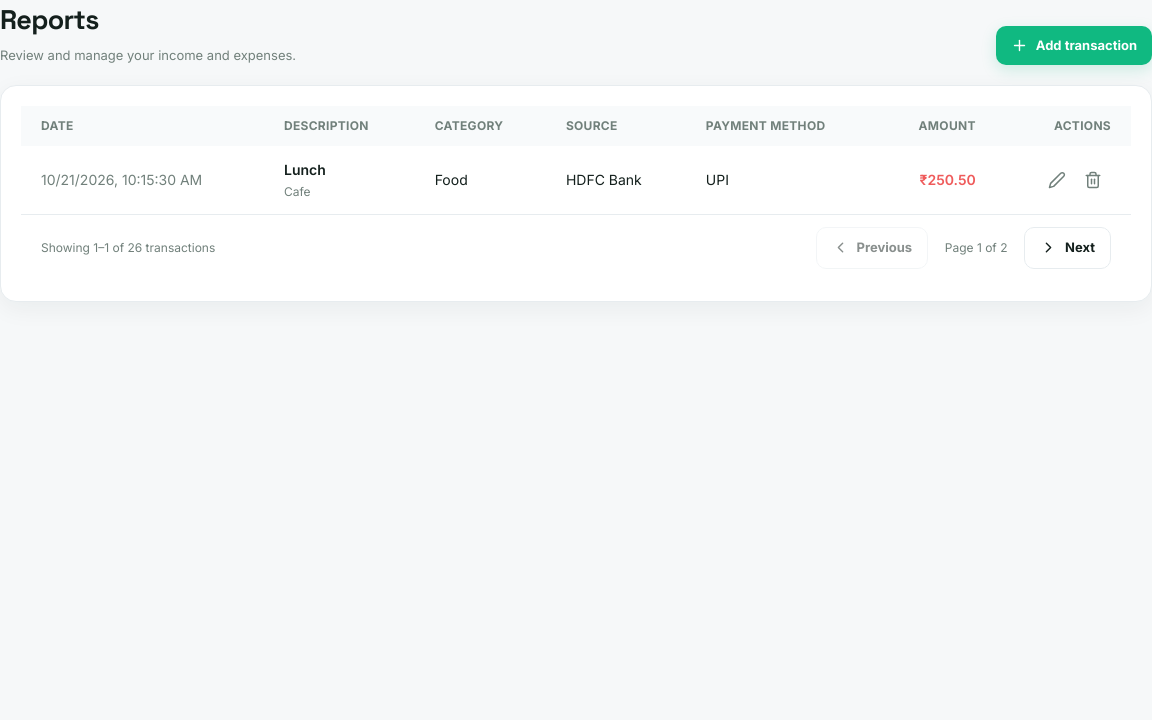
Test case: ReportsPage › edits a transaction and submits the updated fields
Expected: the text "Lunch" is shown, [284,161,326,178]
Click the button named "Edit Lunch": (1057, 180) [1039,162,1075,198]
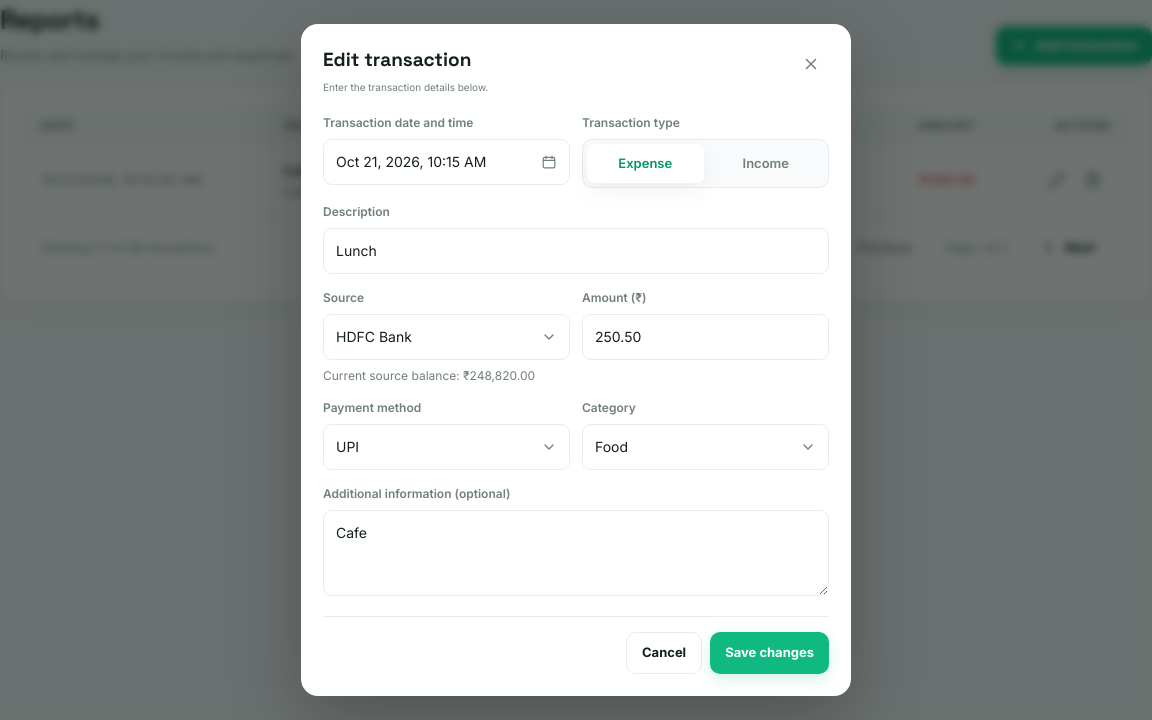
Replace the text in the field labelled "Description" with "Updated lunch": (576, 251) [323,228,829,274]
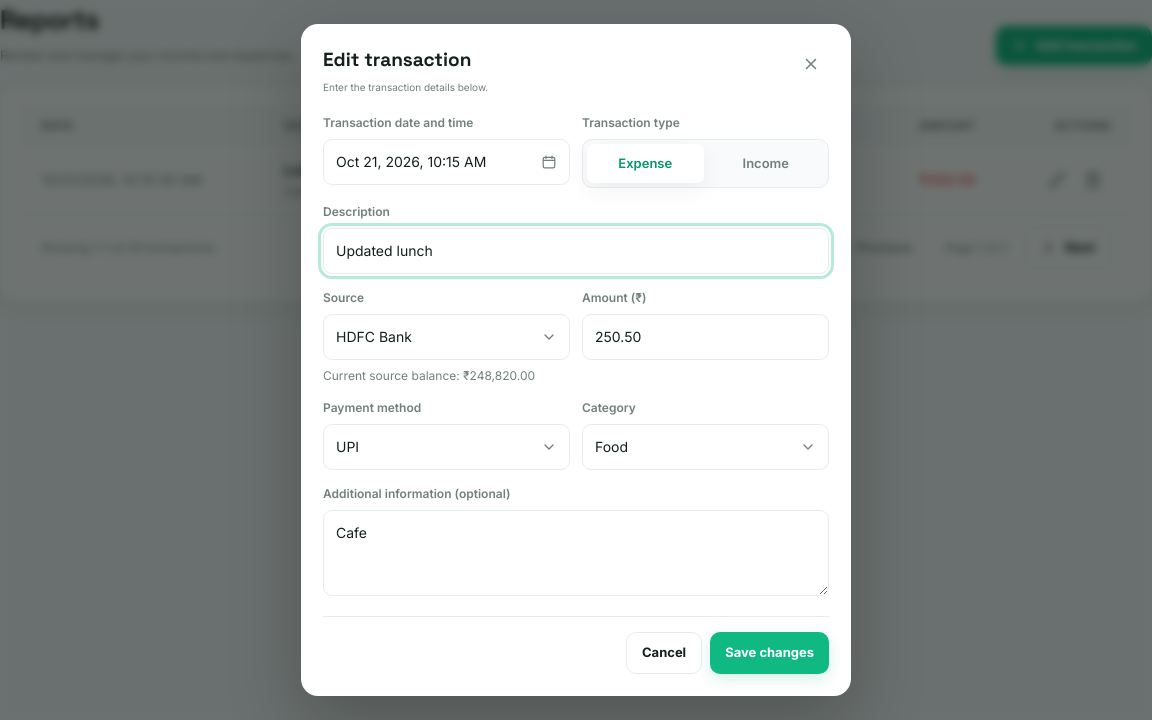
Click the button "Save changes": (770, 653) [710,632,829,674]
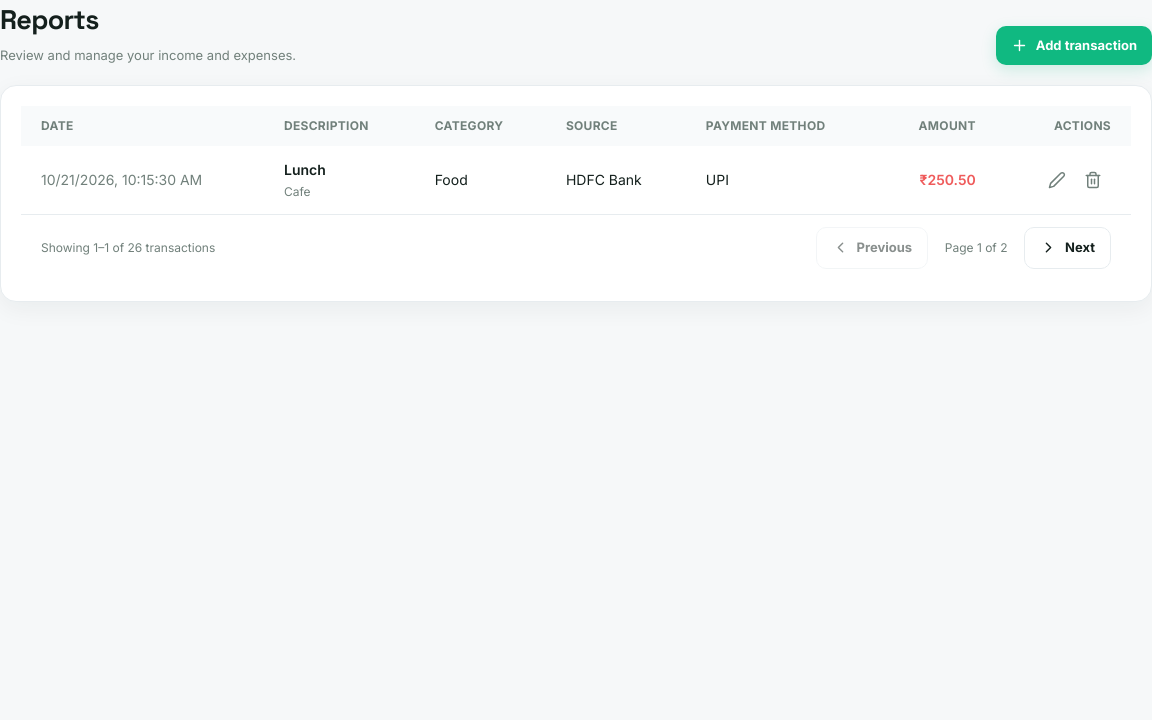
Click the button named "Edit Lunch": (1057, 180) [1039,162,1075,198]
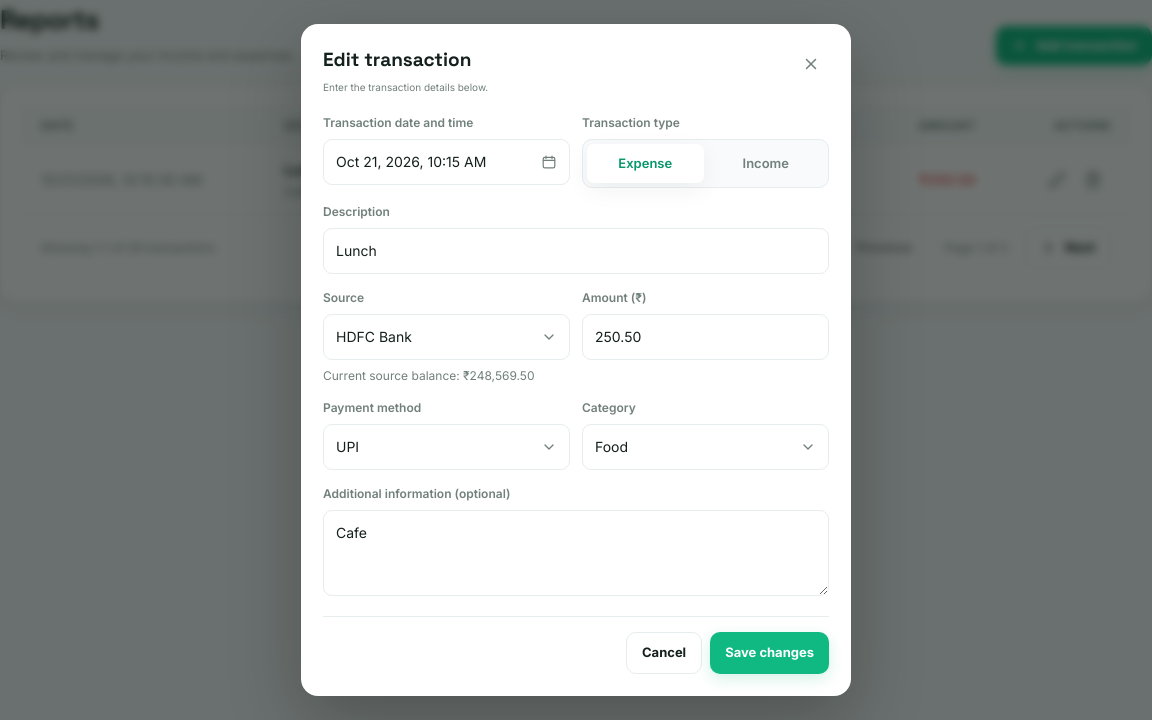
Expected: the message reads "Current source balance: ₹248,569.50", [323,368,535,383]
